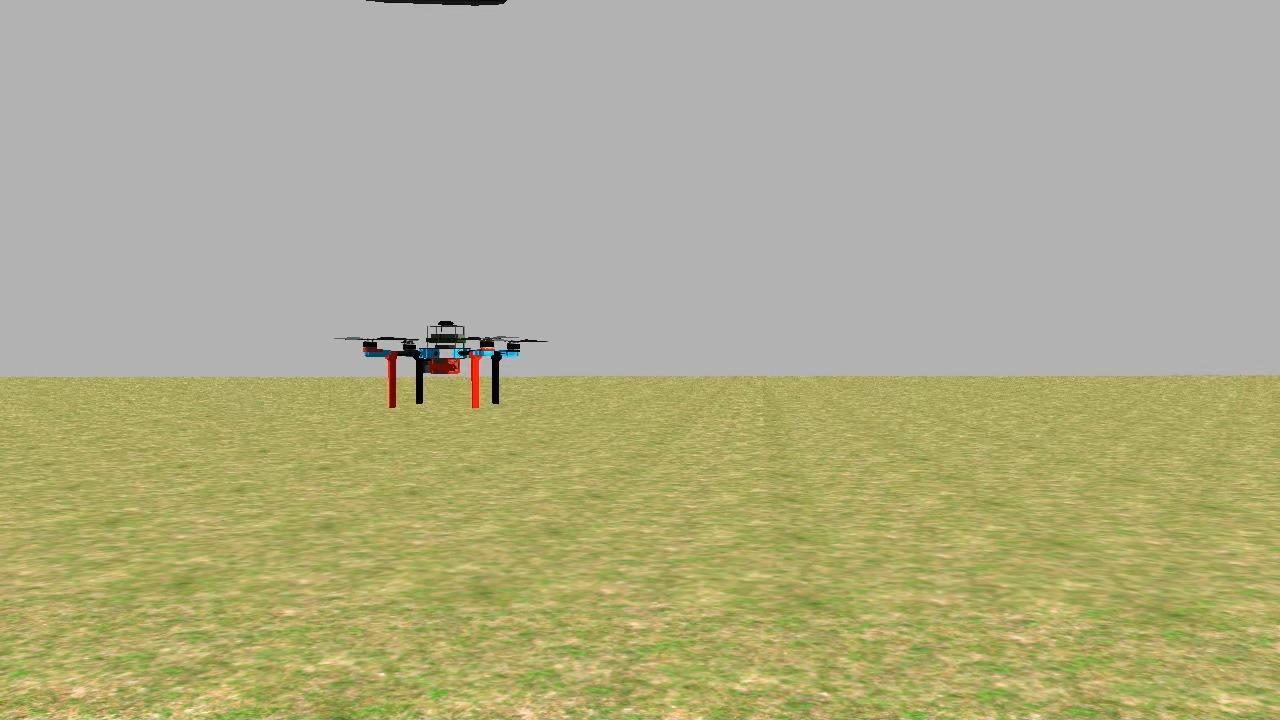UAV: (353, 297, 529, 426)
